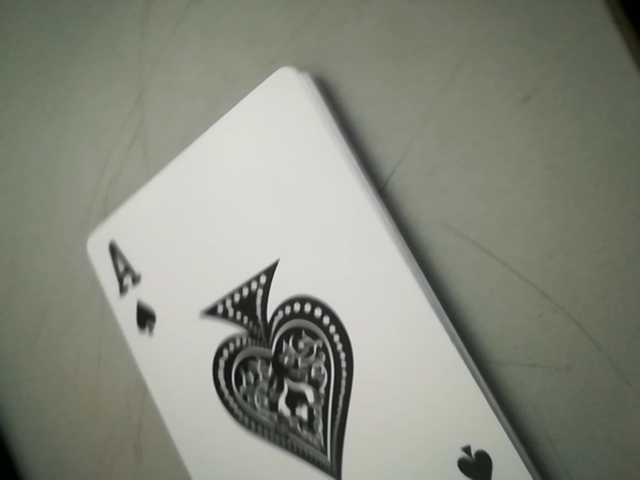ht a: (95, 239, 161, 344)
